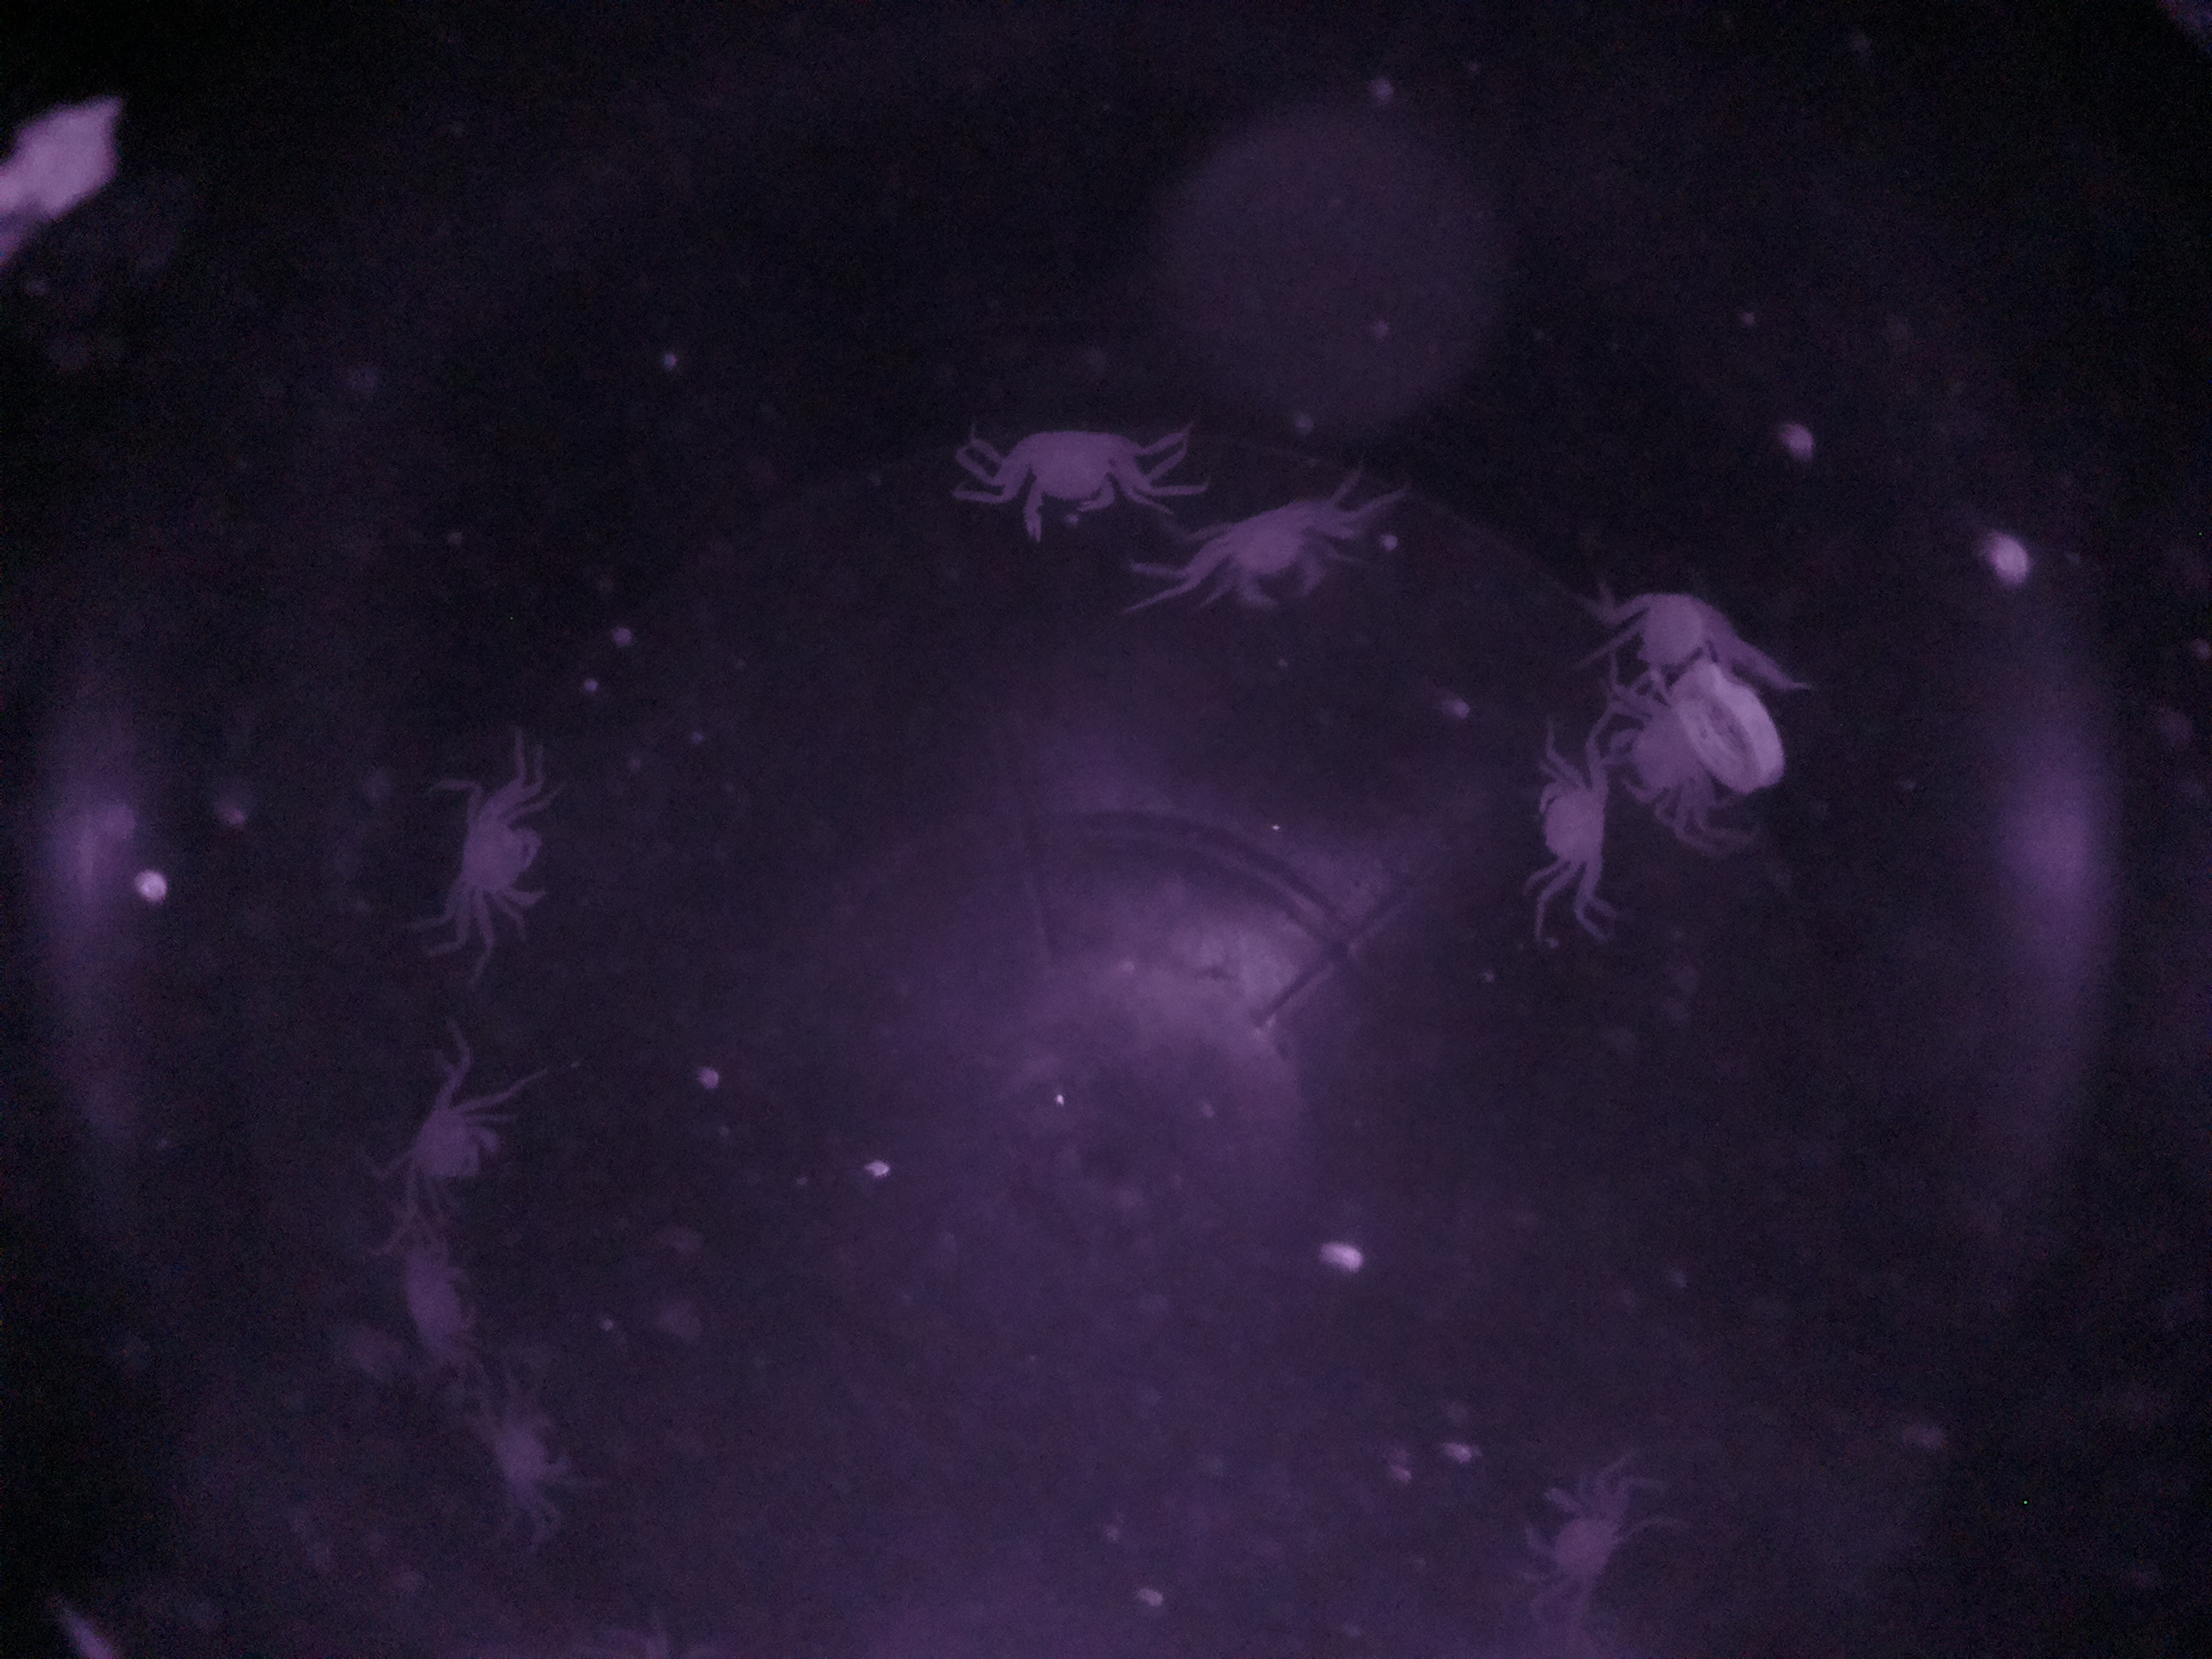Crab: (371, 749, 523, 945), (1500, 1453, 1670, 1621), (1183, 467, 1353, 629), (963, 401, 1146, 547), (1505, 721, 1632, 917), (371, 1056, 529, 1211)
